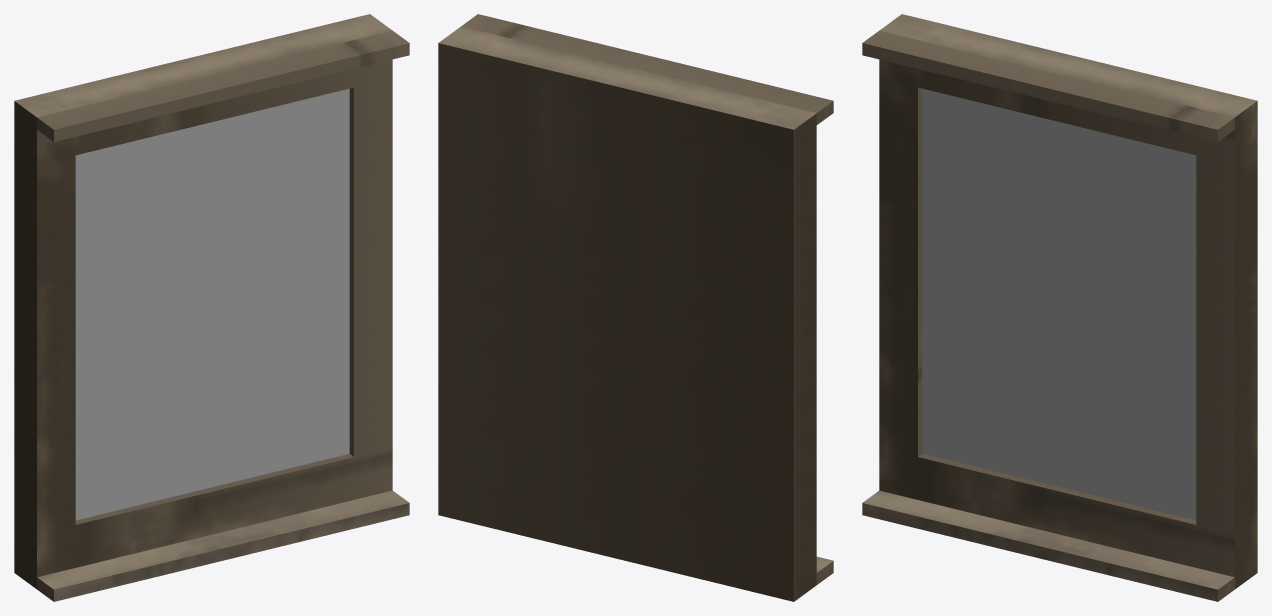
The model's file is Portal.fbx.
3 views of the same model, side by side, from view 1: azimuth 30°, elevation 25°; view 2: azimuth 150°, elevation 25°; view 3: azimuth 330°, elevation 25° (orthographic).
Visible parts, largest first — view 1: portal; view 2: portal; view 3: portal.
Part boxes in pixels (x1=…): portal: x1=14, y1=14, x2=409, y2=601; portal: x1=438, y1=14, x2=833, y2=601; portal: x1=862, y1=14, x2=1257, y2=601.
Bounding box in the file's own units: 0.0182 × 0.0231 × 0.00352.
Materials: 2 (1 with a texture image).
